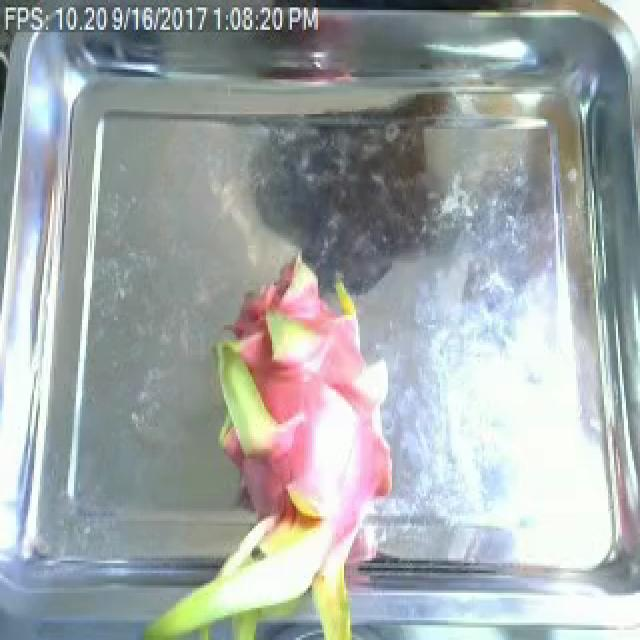fruit: (180, 235, 396, 640)
